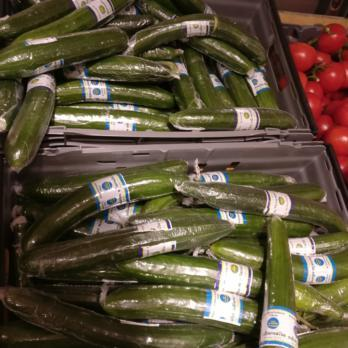Cucumber: (0, 0, 242, 348), (244, 167, 348, 348), (239, 33, 286, 133)
Tomato: (292, 17, 348, 144)
